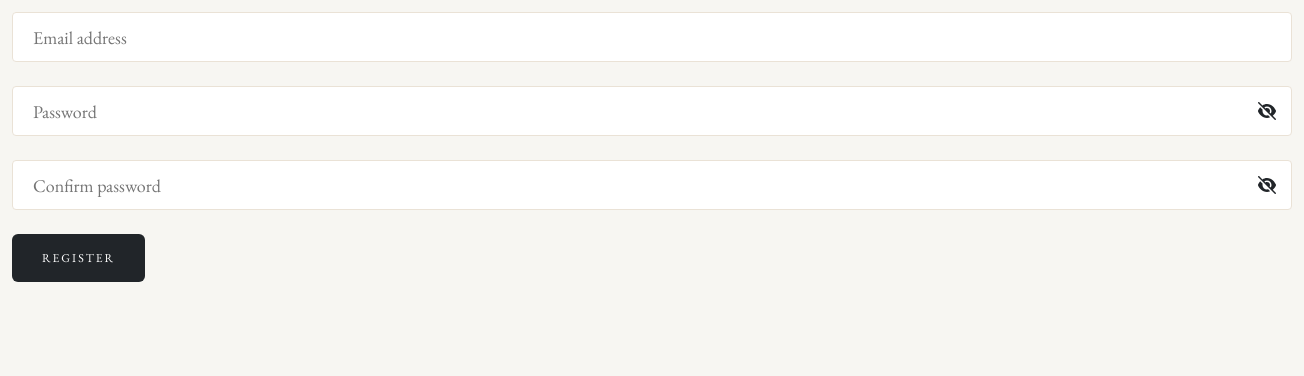
Test: RegisterForm component › shows error notification for user that already exists on form submission
Step 1. Type "test@example.com" into the field labelled "Email address" → (652, 37), box [12,12,1292,62]
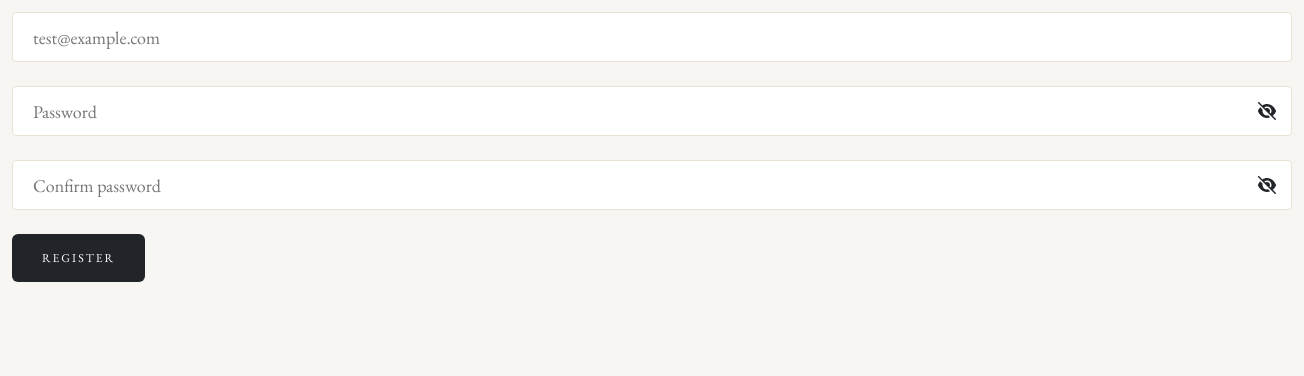
Step 2. Type "password" into the password field labelled "Password" → (652, 111), box [12,86,1292,136]
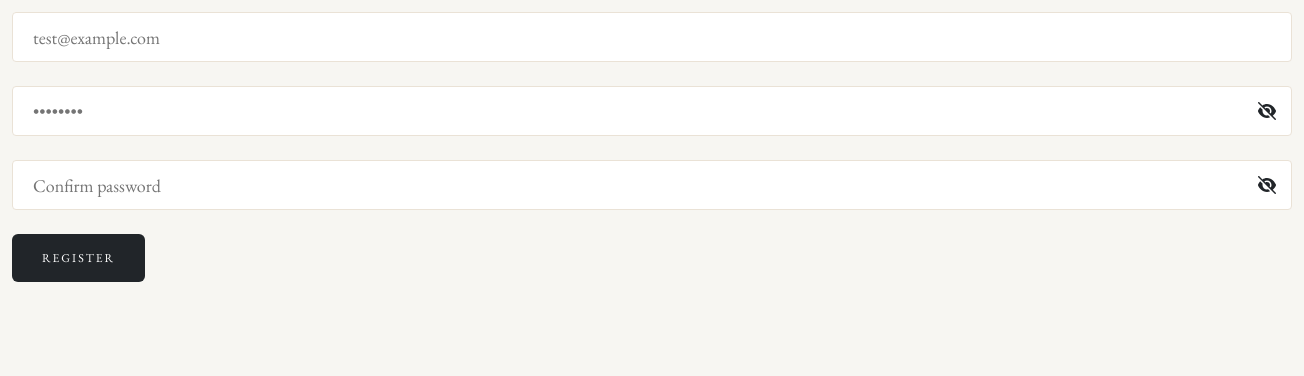
Step 3. Type "password" into the password field labelled "Confirm password" → (652, 185), box [12,160,1292,210]
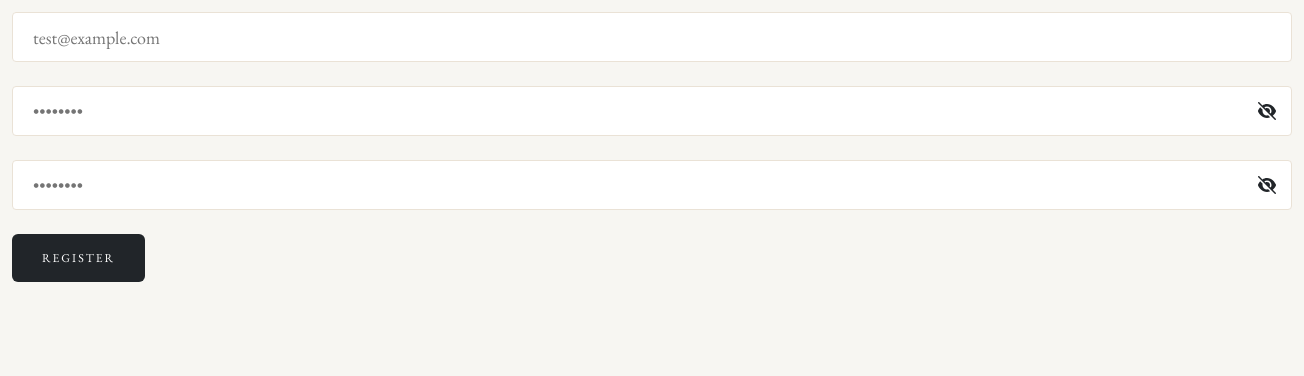
Step 4. Click the button "Register" → (79, 258), box [12,234,145,282]
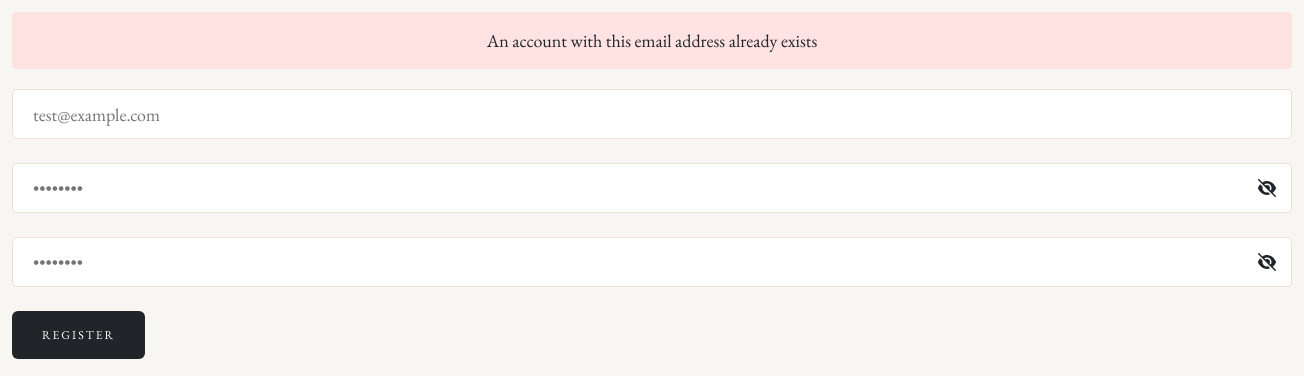
Expected: the text "An account with this email address already exists" is shown, [487,29,817,52]
